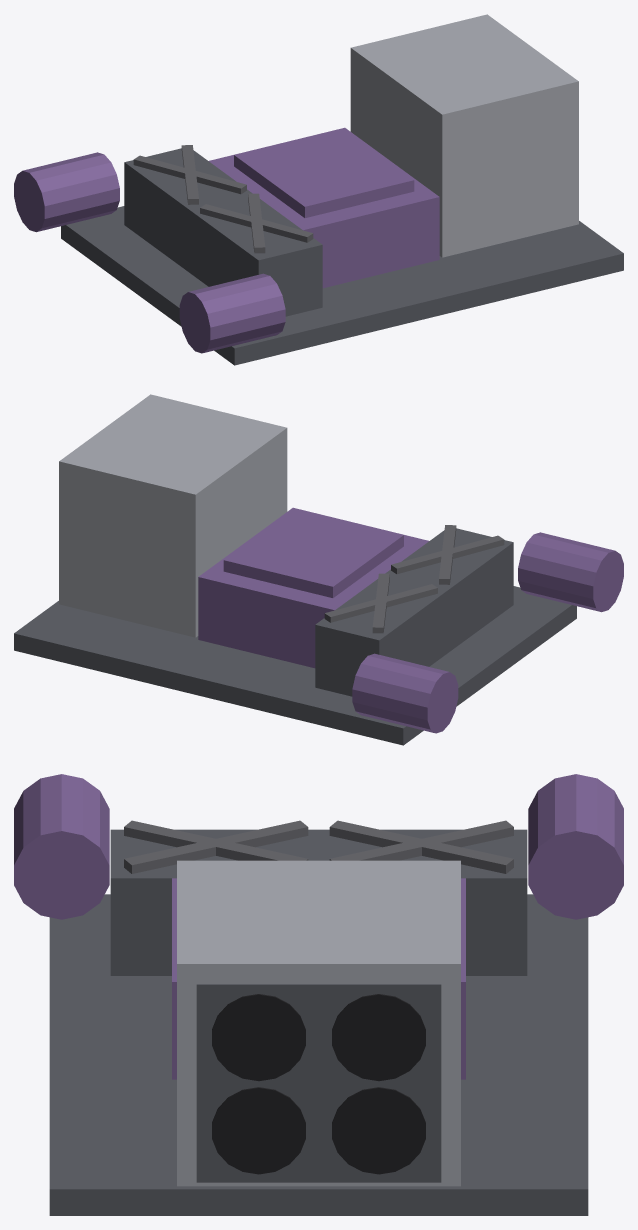
File: vge_gun_astrofire.obj
3 renders of one model, top to bottom at view 1: azimuth 30°, elevation 25°; view 2: azimuth 150°, elevation 25°; view 3: azimuth 270°, elevation 25°, orthographic. The views are drawn at different scales.
Visible parts, largest first — view 1: vge_gun_astrofire_11, vge_gun_astrofire_1, vge_gun_astrofire_4, vge_gun_astrofire_9, vge_gun_astrofire_10, vge_gun_astrofire_2, vge_gun_astrofire_3, vge_gun_astrofire_5, vge_gun_astrofire_7, vge_gun_astrofire_6, vge_gun_astrofire_8; view 2: vge_gun_astrofire_11, vge_gun_astrofire_1, vge_gun_astrofire_4, vge_gun_astrofire_9, vge_gun_astrofire_10, vge_gun_astrofire_3, vge_gun_astrofire_2, vge_gun_astrofire_6, vge_gun_astrofire_8, vge_gun_astrofire_7, vge_gun_astrofire_5; view 3: vge_gun_astrofire_1, vge_gun_astrofire_11, vge_gun_astrofire_12, vge_gun_astrofire_4, vge_gun_astrofire_2, vge_gun_astrofire_3, vge_gun_astrofire_13, vge_gun_astrofire_14, vge_gun_astrofire_15, vge_gun_astrofire_16, vge_gun_astrofire_5, vge_gun_astrofire_8 (+3 smaller).
Part boxes in pixels (<box>): vge_gun_astrofire_11: <box>350,14,578,257</box>; vge_gun_astrofire_1: <box>61,206,623,365</box>; vge_gun_astrofire_4: <box>124,148,322,316</box>; vge_gun_astrofire_9: <box>209,127,439,288</box>; vge_gun_astrofire_10: <box>234,128,414,217</box>; vge_gun_astrofire_2: <box>179,273,285,353</box>; vge_gun_astrofire_3: <box>14,152,119,232</box>; vge_gun_astrofire_5: <box>200,204,313,242</box>; vge_gun_astrofire_7: <box>133,155,246,194</box>; vge_gun_astrofire_6: <box>248,193,265,253</box>; vge_gun_astrofire_8: <box>181,145,198,204</box>; vge_gun_astrofire_11: <box>59,394,287,637</box>; vge_gun_astrofire_1: <box>14,586,576,745</box>; vge_gun_astrofire_4: <box>315,528,513,696</box>; vge_gun_astrofire_9: <box>198,507,428,668</box>; vge_gun_astrofire_10: <box>223,508,403,597</box>; vge_gun_astrofire_3: <box>352,653,458,733</box>; vge_gun_astrofire_2: <box>518,532,623,612</box>; vge_gun_astrofire_6: <box>391,535,504,574</box>; vge_gun_astrofire_8: <box>324,584,437,622</box>; vge_gun_astrofire_7: <box>372,573,389,633</box>; vge_gun_astrofire_5: <box>439,525,456,584</box>; vge_gun_astrofire_1: <box>49,894,588,1215</box>; vge_gun_astrofire_11: <box>177,860,460,1186</box>; vge_gun_astrofire_12: <box>196,984,441,1182</box>; vge_gun_astrofire_4: <box>110,829,527,975</box>; vge_gun_astrofire_2: <box>14,774,109,919</box>; vge_gun_astrofire_3: <box>528,774,623,919</box>; vge_gun_astrofire_13: <box>212,1087,305,1174</box>; vge_gun_astrofire_14: <box>332,1087,425,1174</box>; vge_gun_astrofire_15: <box>212,994,305,1081</box>; vge_gun_astrofire_16: <box>332,994,425,1081</box>; vge_gun_astrofire_5: <box>124,820,308,873</box>; vge_gun_astrofire_8: <box>329,820,513,873</box>.
Bounding box in the file's own units: 3.11 × 1.28 × 2.49.
